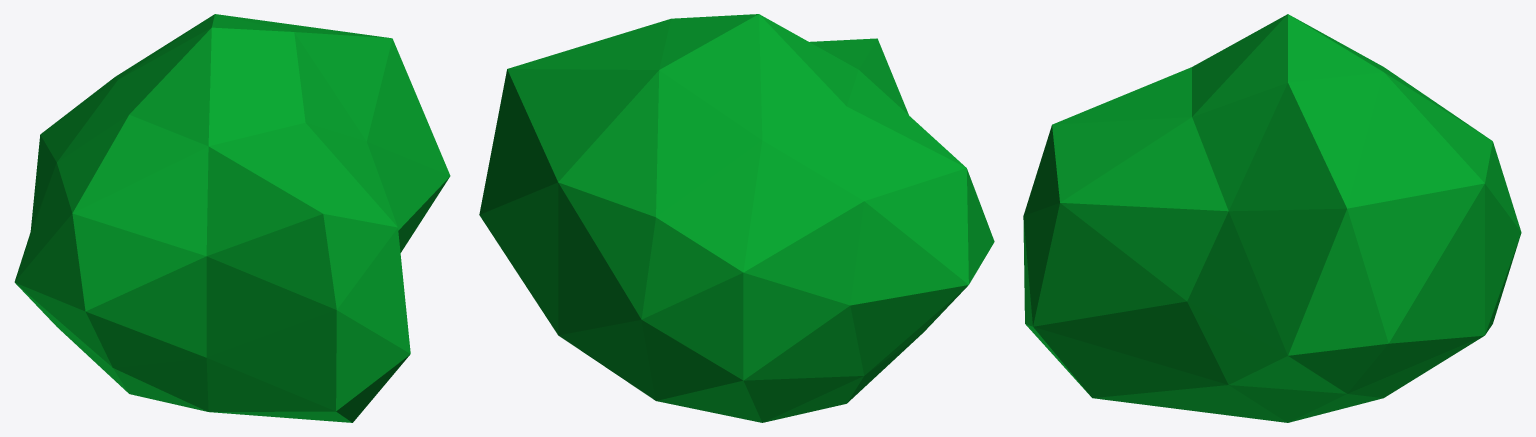
The model's file is TreeLeaves3.obj.
3 views of the same model, side by side, from view 1: azimuth 30°, elevation 25°; view 2: azimuth 150°, elevation 25°; view 3: azimuth 270°, elevation 25° (orthographic). The views are drawn at different scales.
Parts seen in each view (by area): view 1: TreeLeaves3; view 2: TreeLeaves3; view 3: TreeLeaves3.
Boxes of the visible parts, x1=… form: TreeLeaves3: x1=14, y1=14, x2=450, y2=422; TreeLeaves3: x1=479, y1=14, x2=994, y2=422; TreeLeaves3: x1=1023, y1=14, x2=1521, y2=422.
Size of the model in its own units: 13.89 by 11.29 by 12.99.
